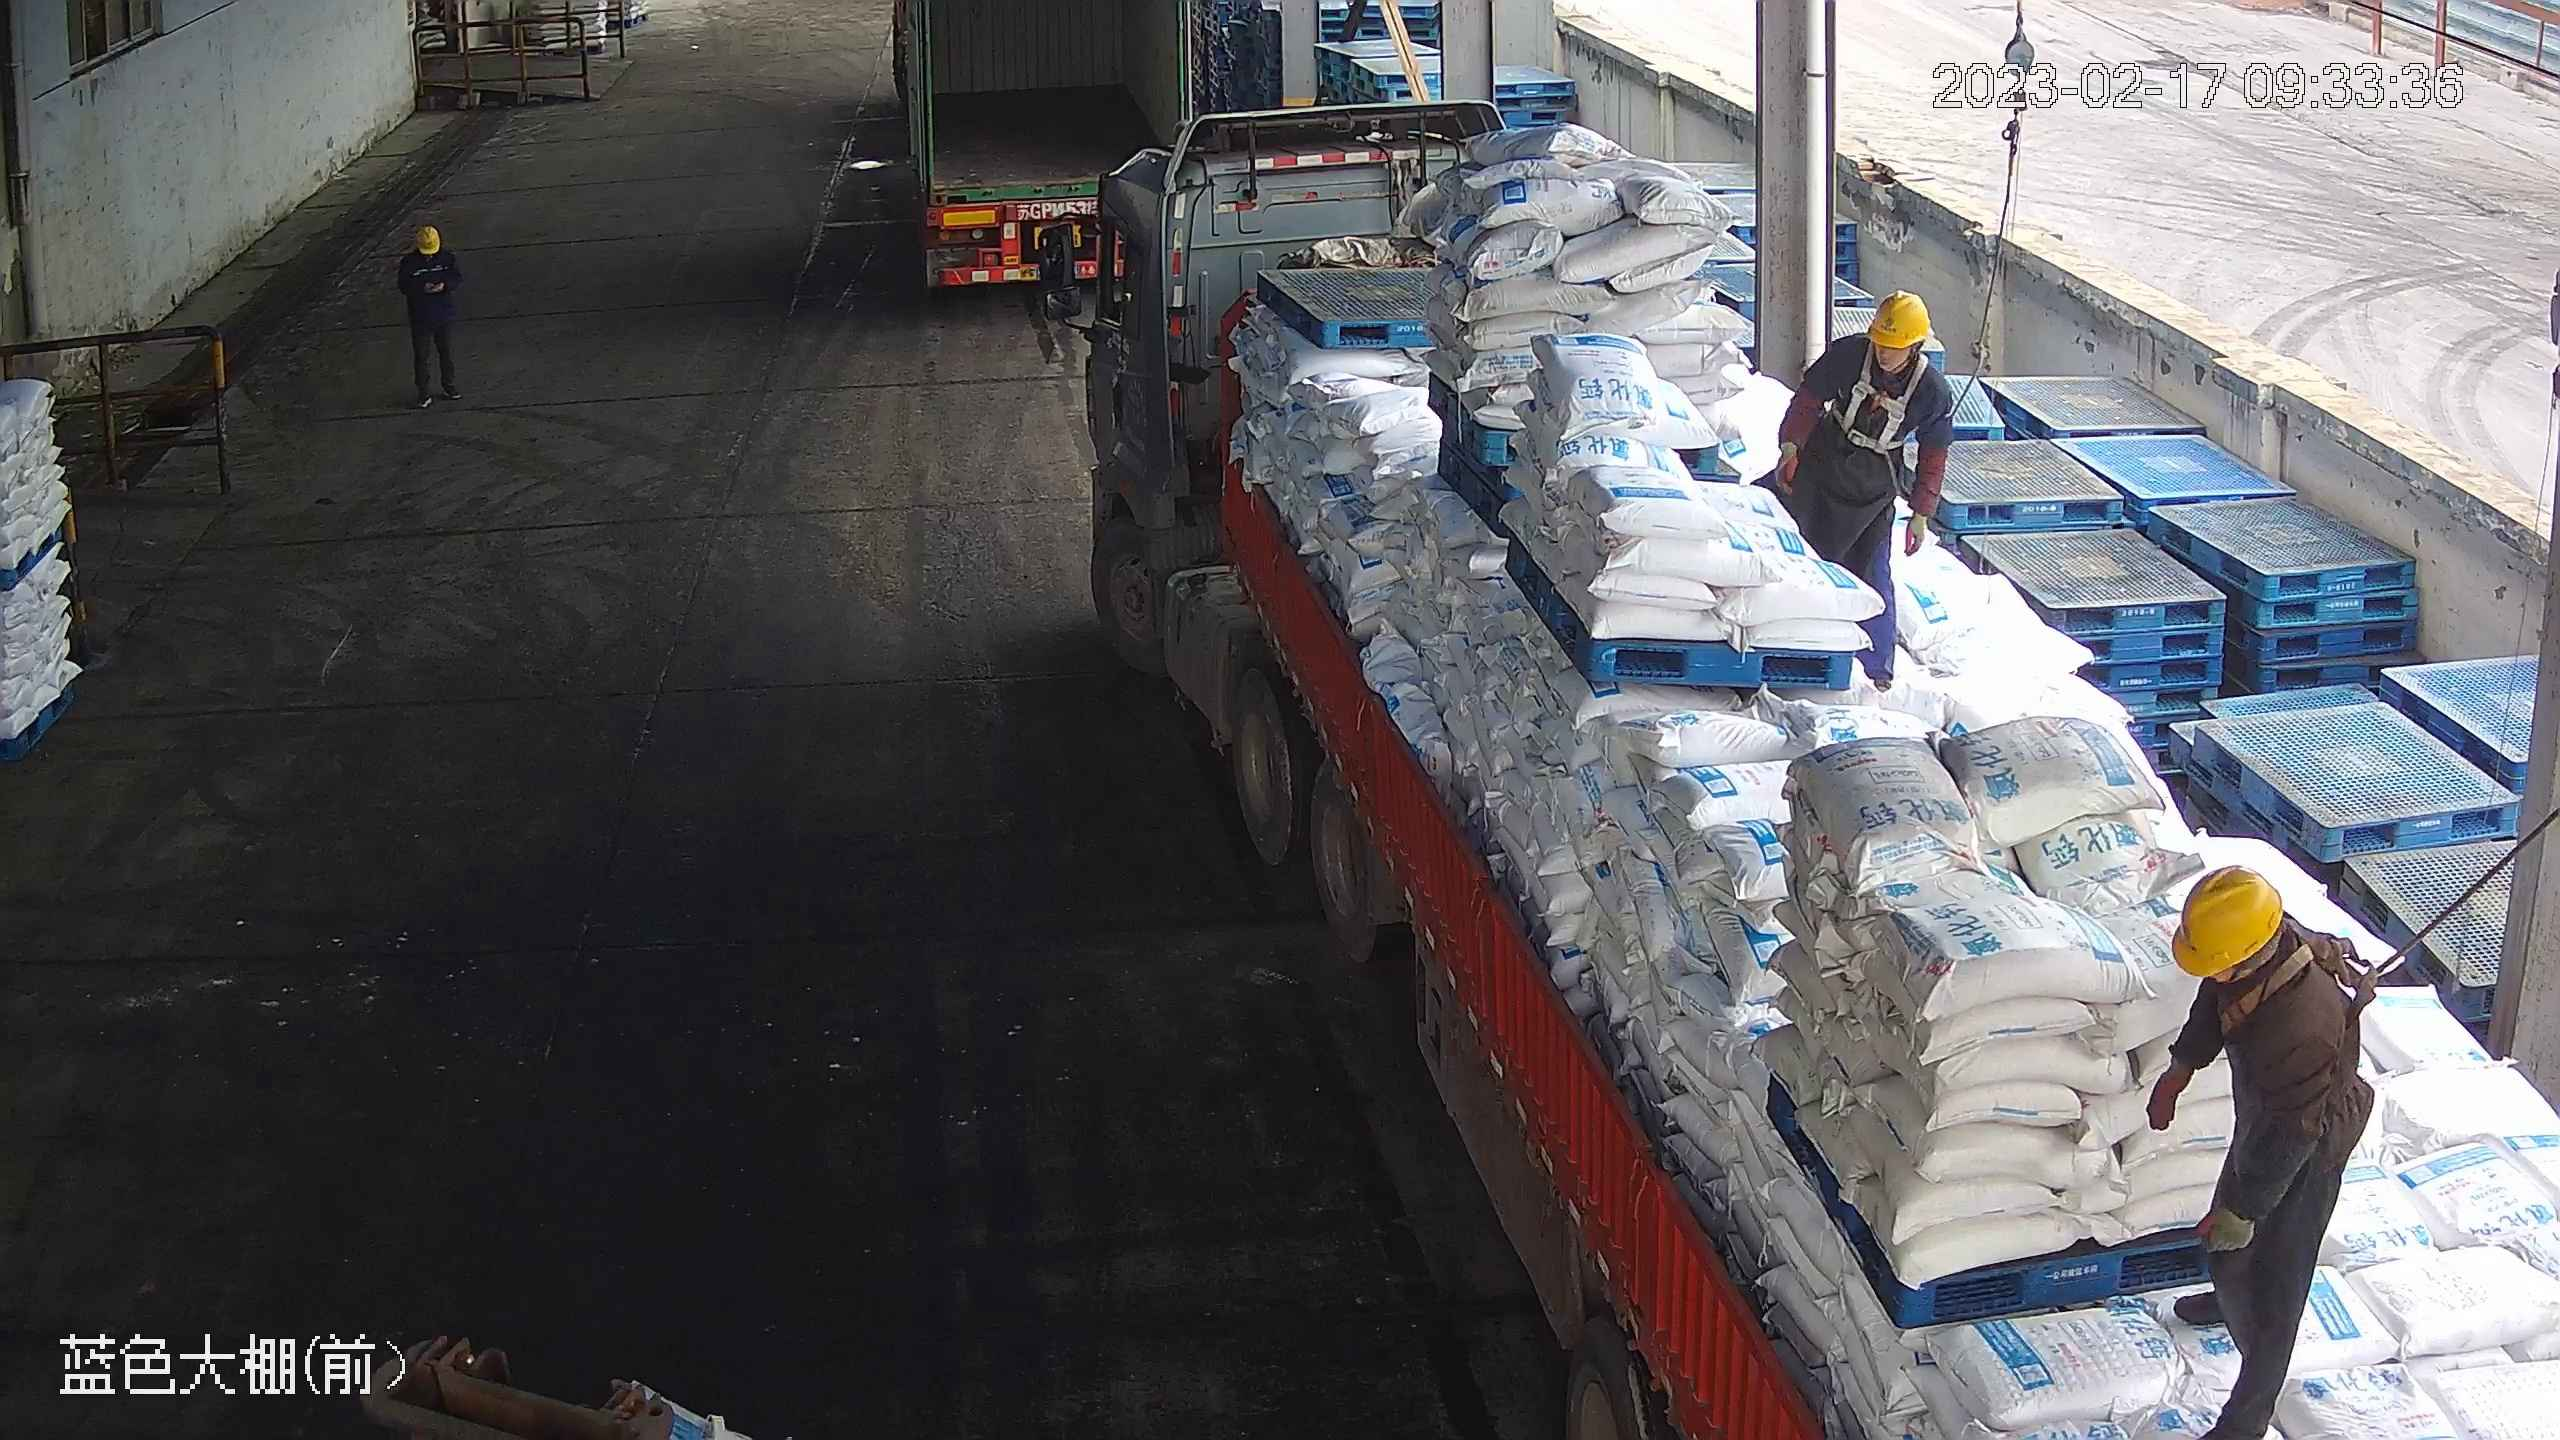belt: (2212, 938, 2374, 1035), (1833, 344, 1927, 448)
head: (2159, 862, 2361, 1037), (1808, 287, 1945, 408), (399, 224, 456, 276)
helmet: (2168, 860, 2288, 976), (1865, 286, 1933, 350), (411, 223, 441, 249)
people: (2141, 864, 2378, 1436), (1766, 285, 1953, 689), (396, 223, 465, 408)
truck: (1041, 97, 2551, 1440), (885, 1, 1194, 294)
